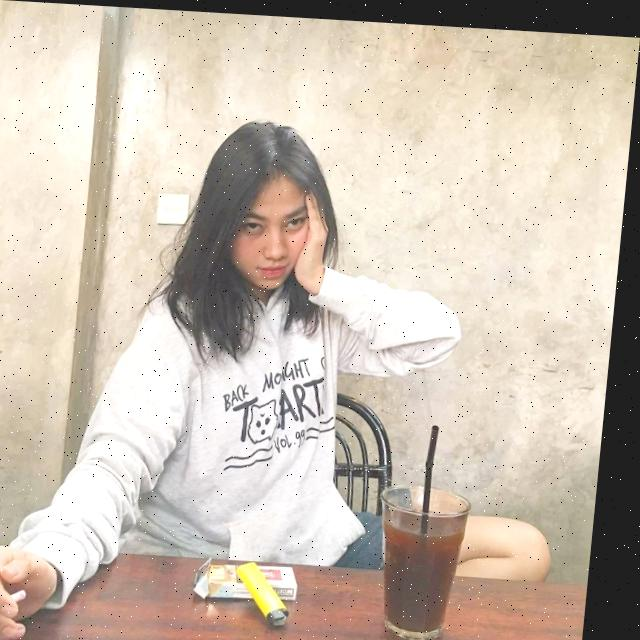cigarette: (0, 585, 39, 640)
